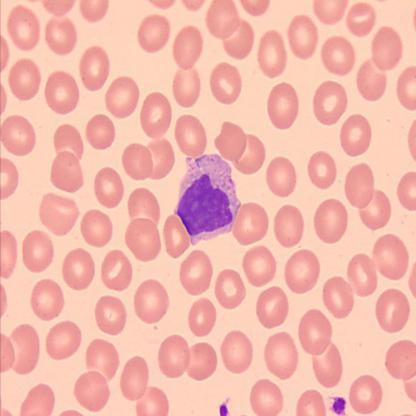Atypical lymphocyte: (174, 152, 241, 245)
